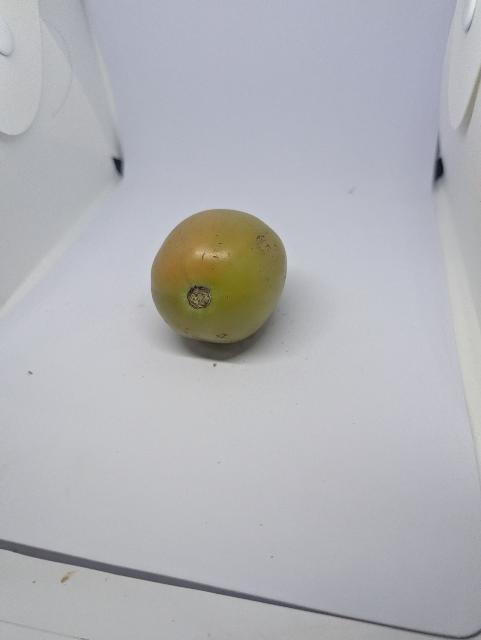breaker: (149, 208, 297, 348)
